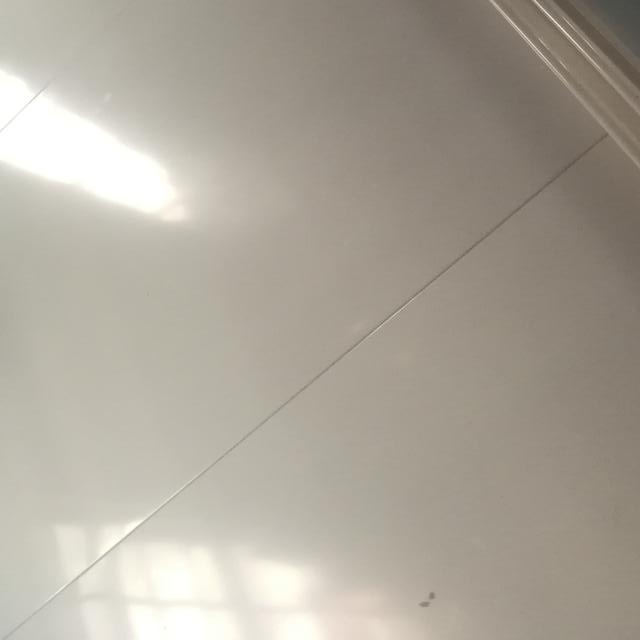fluorescent tube: (252, 0, 640, 271)
